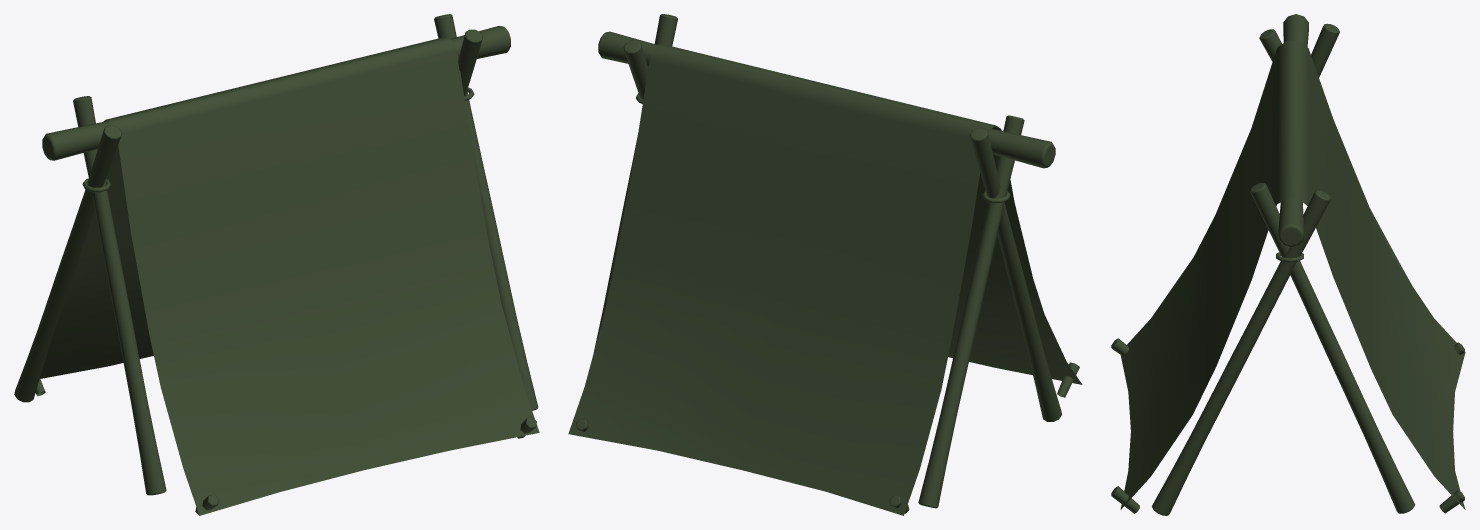
Rendered from tent.obj.
The picture shows the model from 3 angles, left to right: view 1: azimuth 30°, elevation 25°; view 2: azimuth 150°, elevation 25°; view 3: azimuth 270°, elevation 25°; orthographic projection. The views are drawn at different scales.
Parts seen in each view (by area): view 1: Mesh.035; view 2: Mesh.035; view 3: Mesh.035.
Boxes of the visible parts, x1,y1,x2,y2 form: Mesh.035: [14, 14, 539, 515]; Mesh.035: [568, 14, 1082, 515]; Mesh.035: [1111, 14, 1465, 515].
Size of the model in its own units: 227 by 168 by 160.
